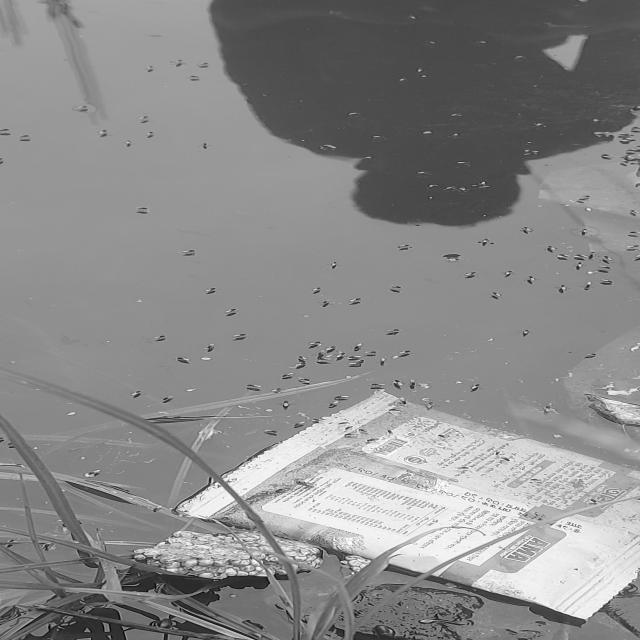Breeding Place: (1, 0, 640, 390), (4, 399, 344, 640), (298, 558, 621, 640), (425, 399, 640, 469)
